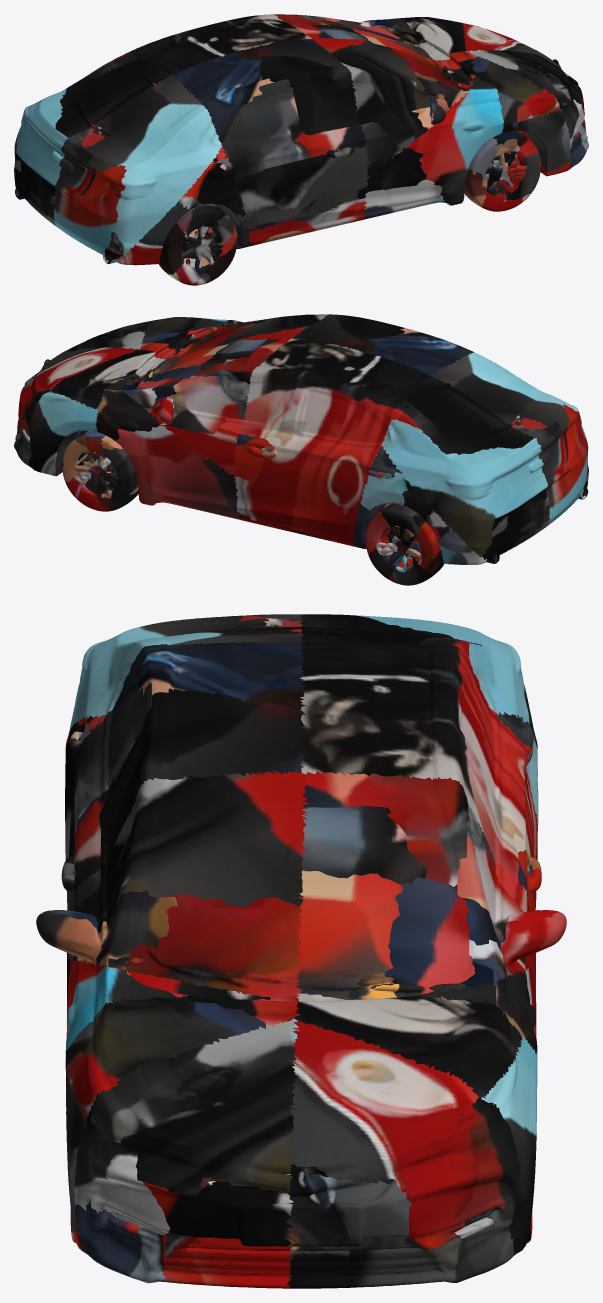
3 views of the same model, one above another, from view 1: azimuth 30°, elevation 25°; view 2: azimuth 150°, elevation 25°; view 3: azimuth 270°, elevation 25° (orthographic). The views are drawn at different scales.
Visible parts, largest first — view 1: tripo_node_3524942f-8b21-4901-b752-e138e89f5e8f; view 2: tripo_node_3524942f-8b21-4901-b752-e138e89f5e8f; view 3: tripo_node_3524942f-8b21-4901-b752-e138e89f5e8f.
Boxes of the visible parts, x1,y1,x2,y2 form: tripo_node_3524942f-8b21-4901-b752-e138e89f5e8f: [14, 14, 588, 285]; tripo_node_3524942f-8b21-4901-b752-e138e89f5e8f: [14, 314, 588, 585]; tripo_node_3524942f-8b21-4901-b752-e138e89f5e8f: [36, 614, 566, 1288].
Bounding box in the file's own units: 100 × 31.92 × 45.06.
